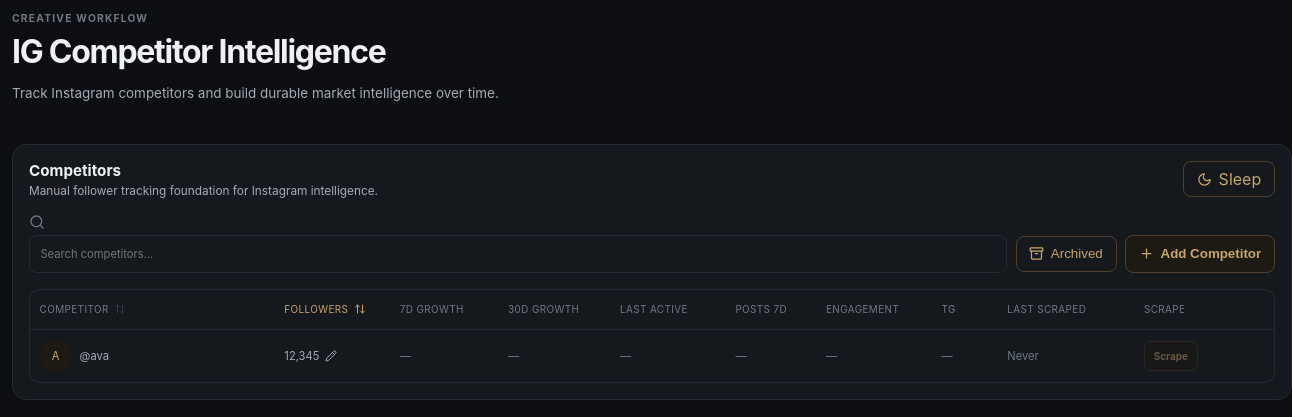
Scenario: IgCompetitorIntelligencePage › sleeps through the same button and returns it to Open Phone
Step 1. Click the button "Sleep" → point(1229, 179), box left=1183, top=161, right=1275, bottom=197
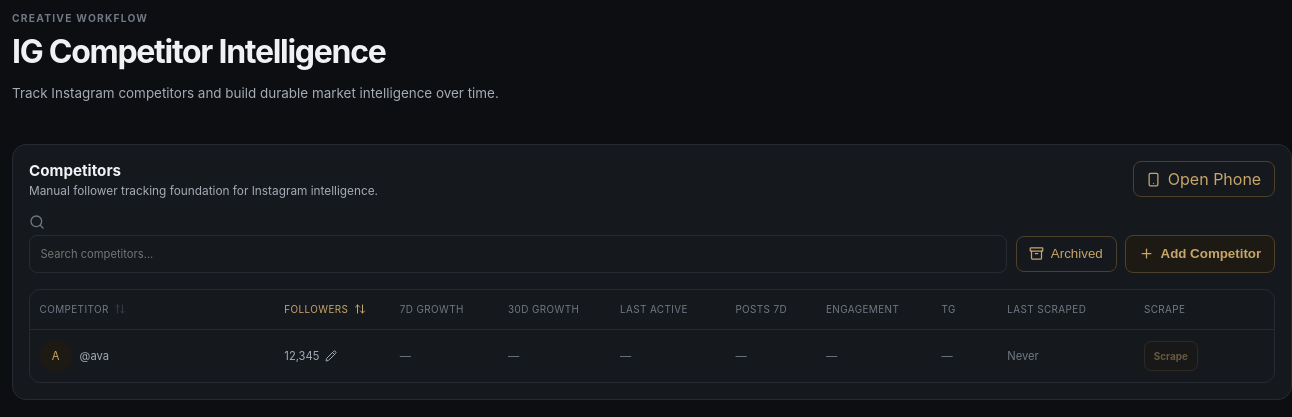
Result: the button "Open Phone" is shown at left=1133, top=161, right=1275, bottom=197
